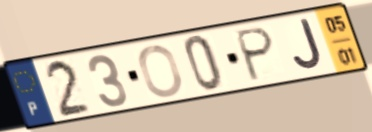0: (183, 33, 228, 93)
2: (45, 57, 94, 119)
3: (86, 53, 129, 109)
J: (290, 16, 326, 73)
O: (136, 43, 185, 99)
P: (234, 25, 277, 84)
